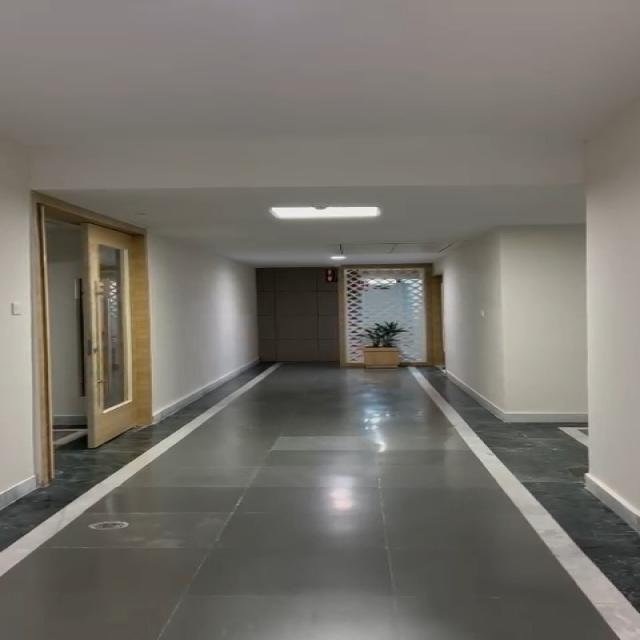door: (22, 194, 172, 480), (251, 256, 432, 376)
floor: (145, 412, 494, 640)
furniture: (363, 322, 422, 373)
wall: (443, 37, 640, 497)
